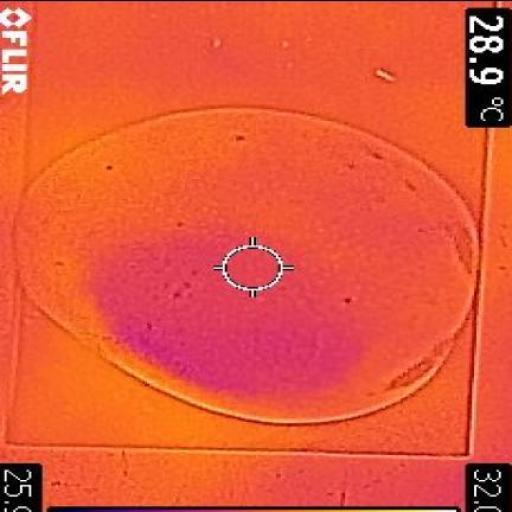alphanso: (20, 108, 477, 423)
